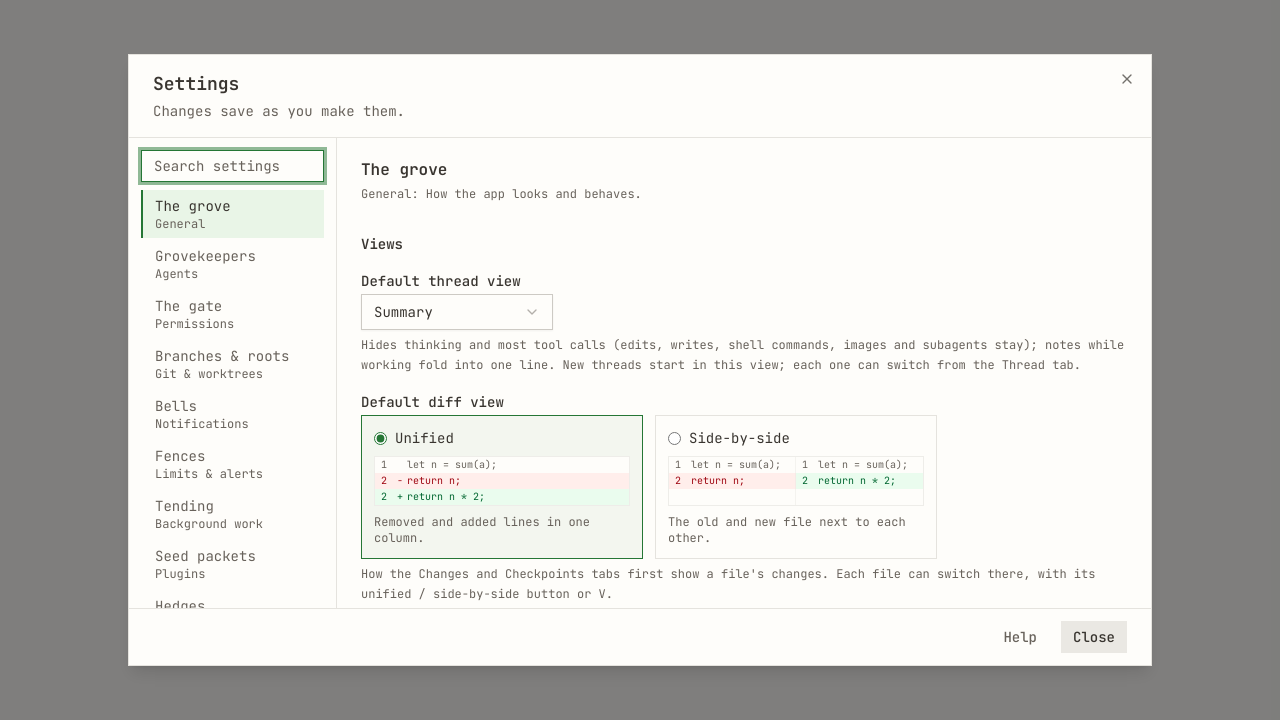
SettingsPanel permission rules › puts a clicked example in the field to edit
Click the tab "The gate Permissions" at (232, 314), box [141, 290, 324, 338]
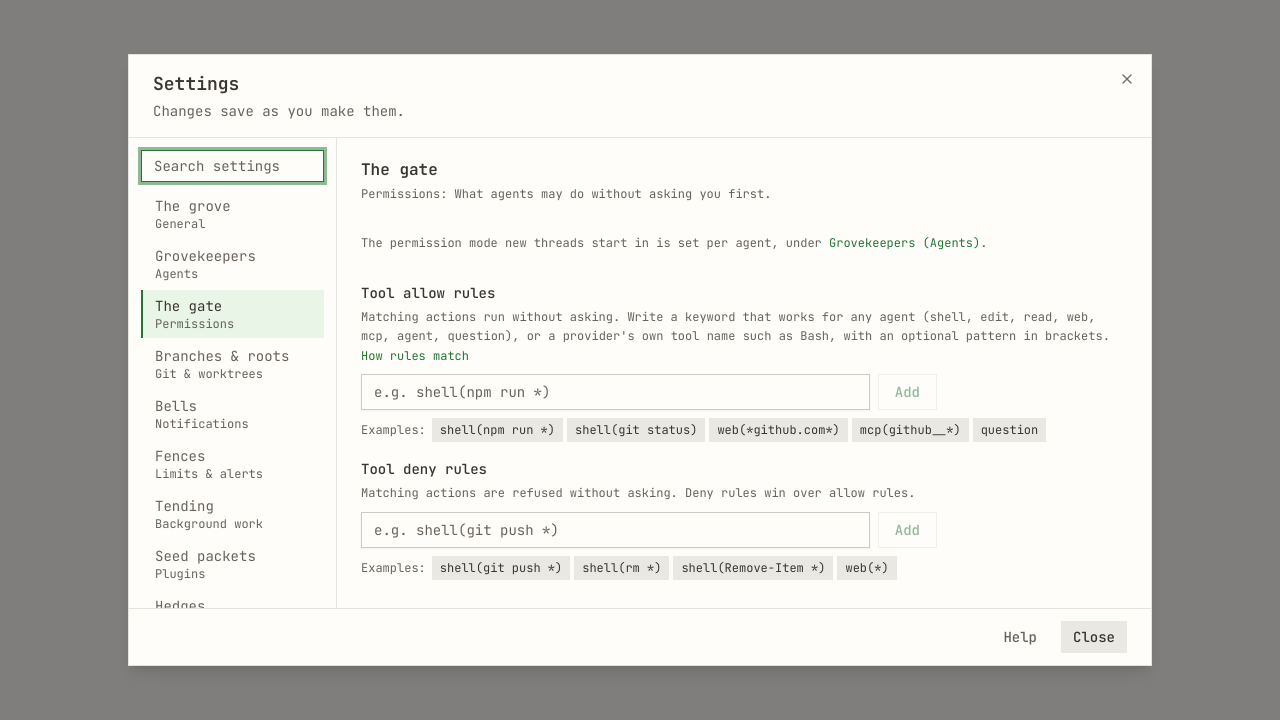
Click the button "shell(git push *)" at (501, 568), box [432, 556, 570, 580]
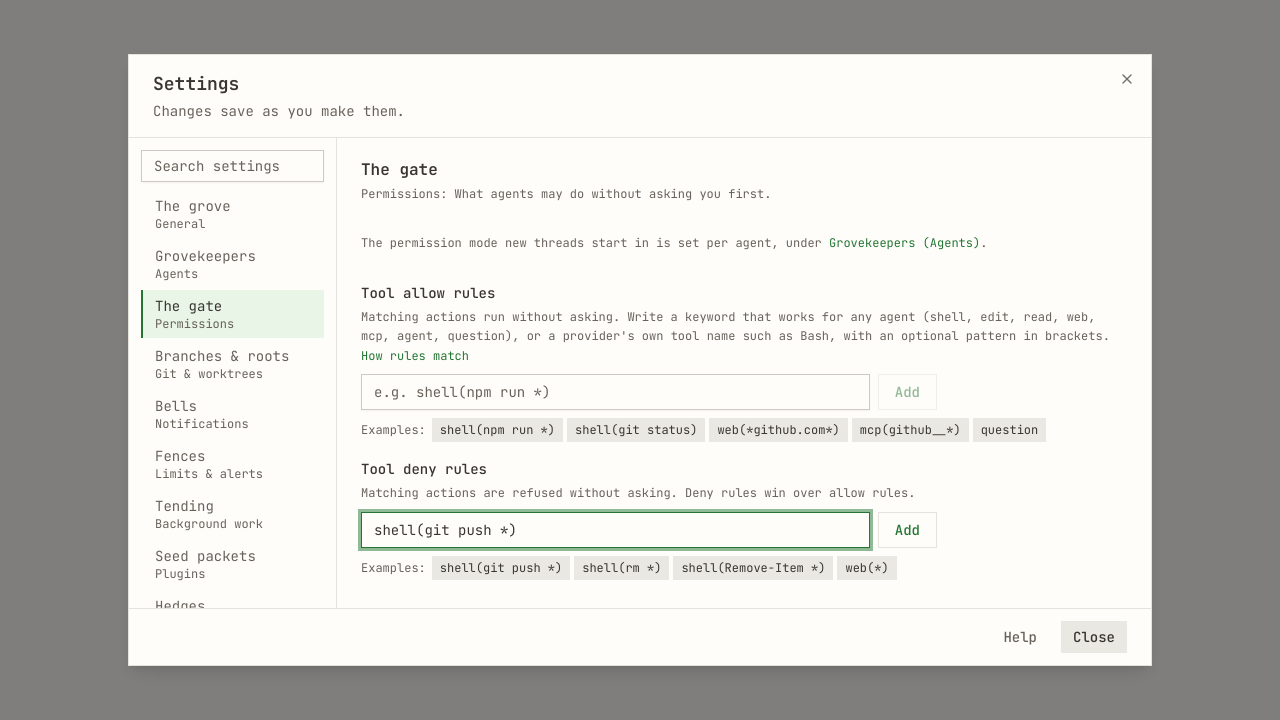
expect the field labelled "Tool deny rules" holds "shell(git push *)": met, box [361, 512, 870, 548]
